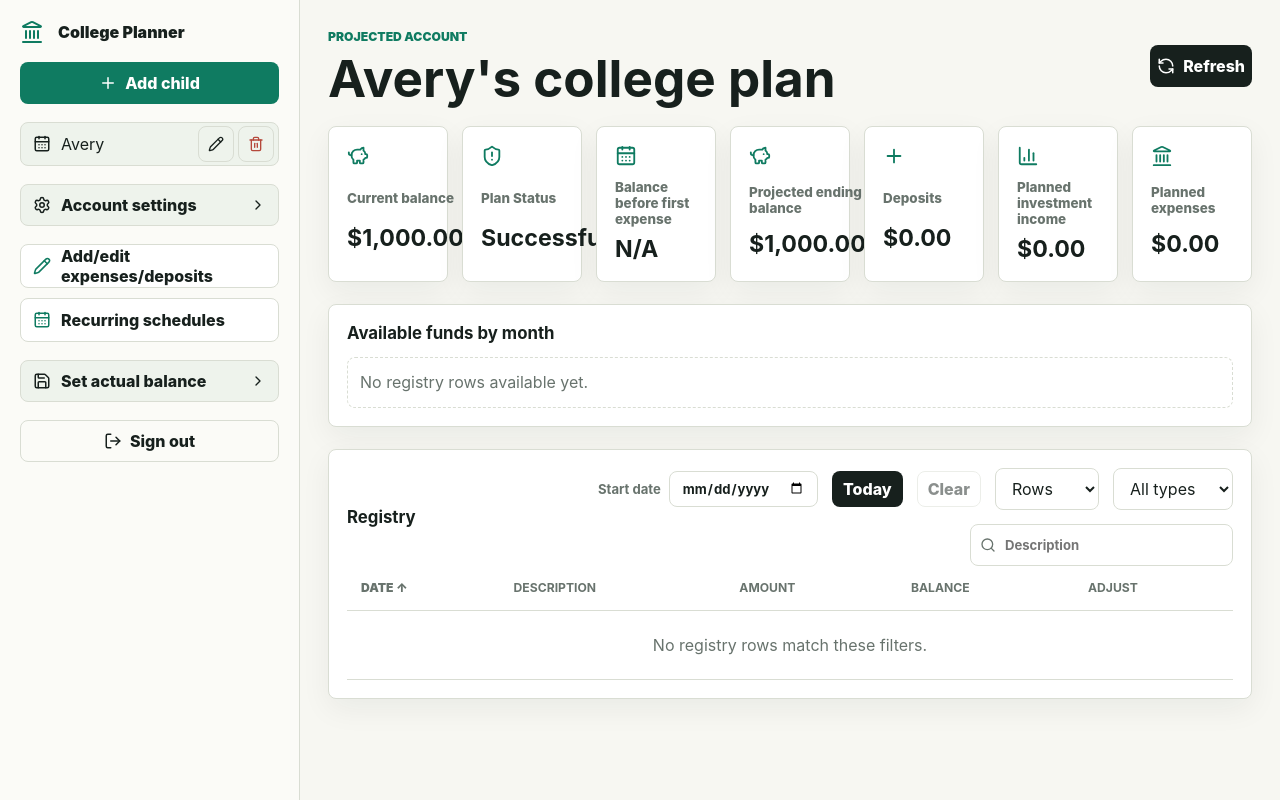
PlannerApp schedule workspace › applies and clears a display start date without changing the summary request
(page scrolled)
Check: the heading "Registry" is shown, box [347, 507, 416, 527]
Check: the button "Clear" is disabled, box [917, 471, 981, 507]
Click the button "Today" at (867, 489), box [832, 471, 903, 507]
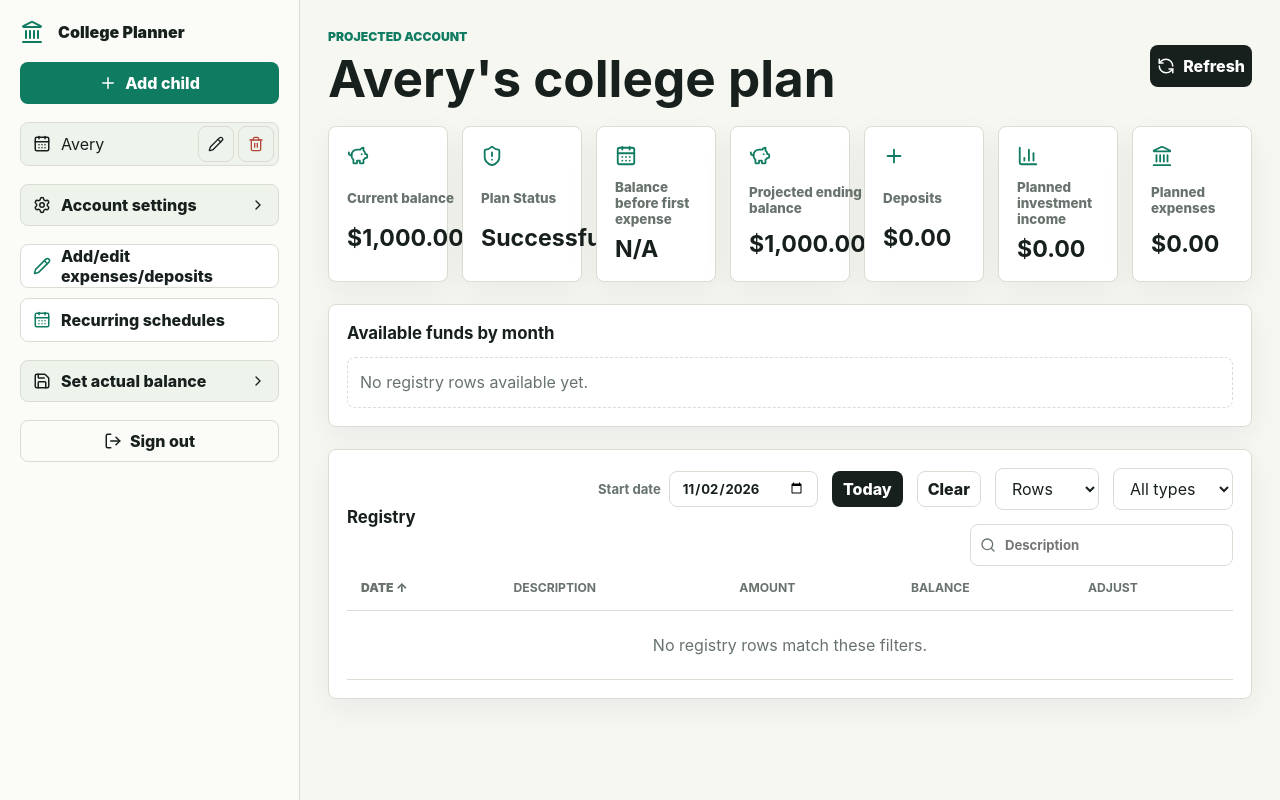
Click the button "Clear" at (949, 489), box [917, 471, 981, 507]
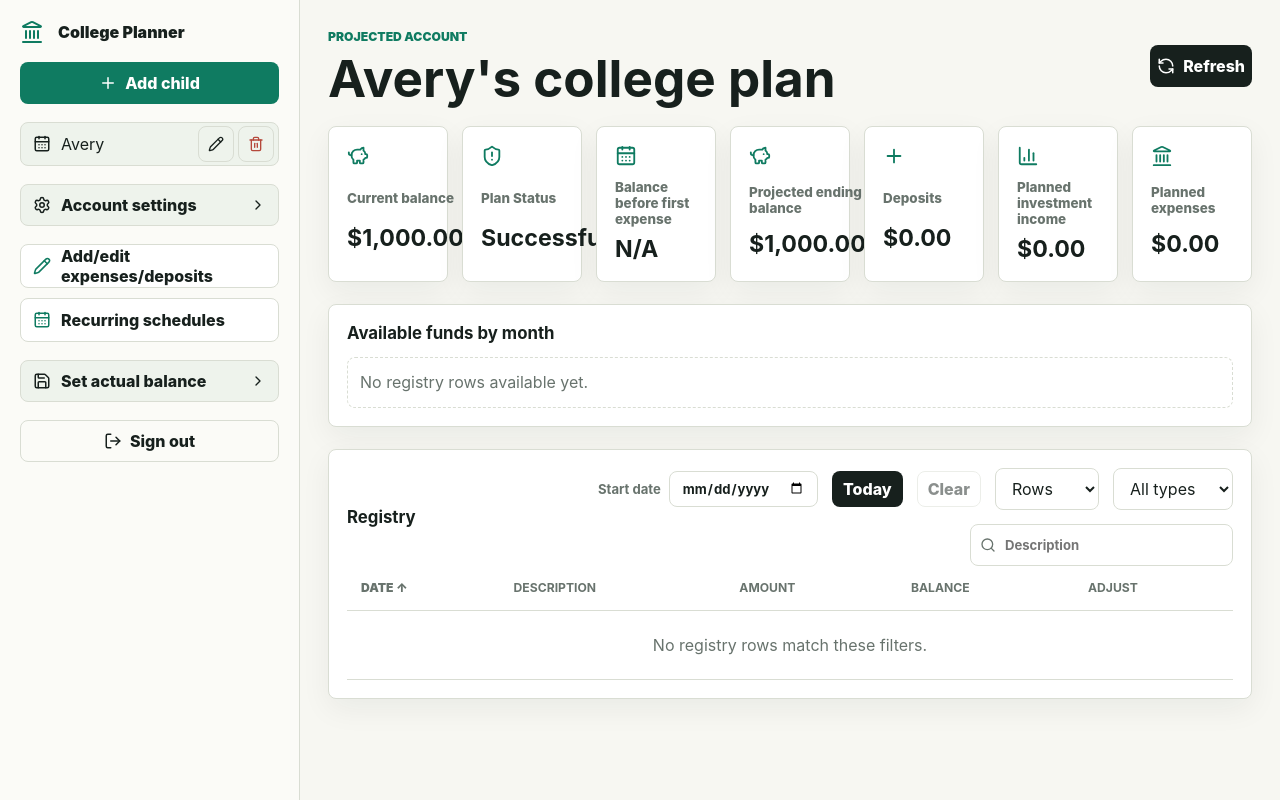
Check: the date field labelled "Start date" is empty, box [669, 471, 818, 507]
Check: the button "Clear" is disabled, box [917, 471, 981, 507]
